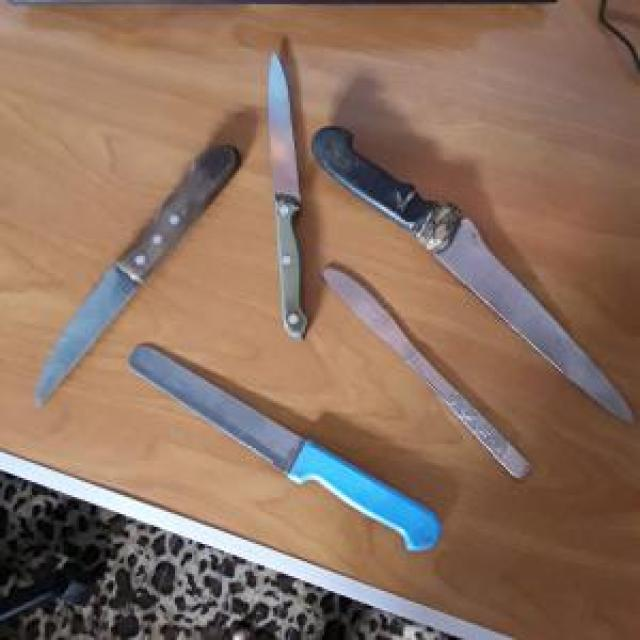knife: (309, 117, 638, 431), (124, 339, 450, 559), (28, 139, 247, 416), (318, 260, 536, 489), (264, 43, 310, 344)
